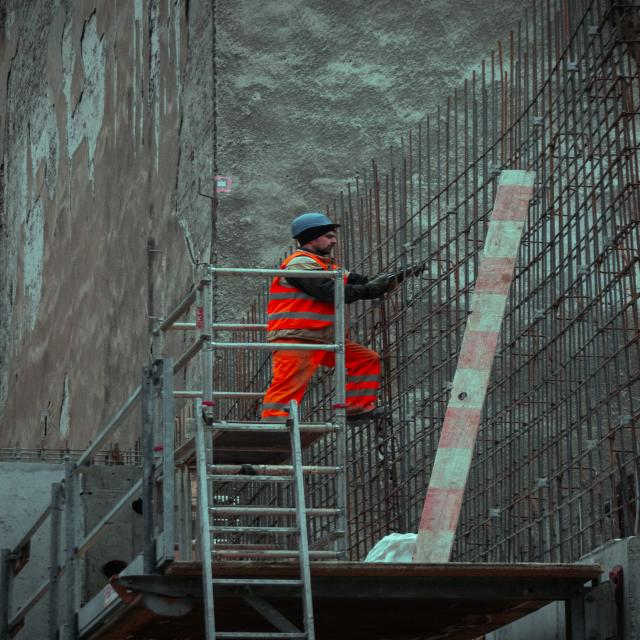helmet: (277, 200, 342, 245)
shoes: (336, 394, 406, 433)
vest: (257, 249, 351, 345)
